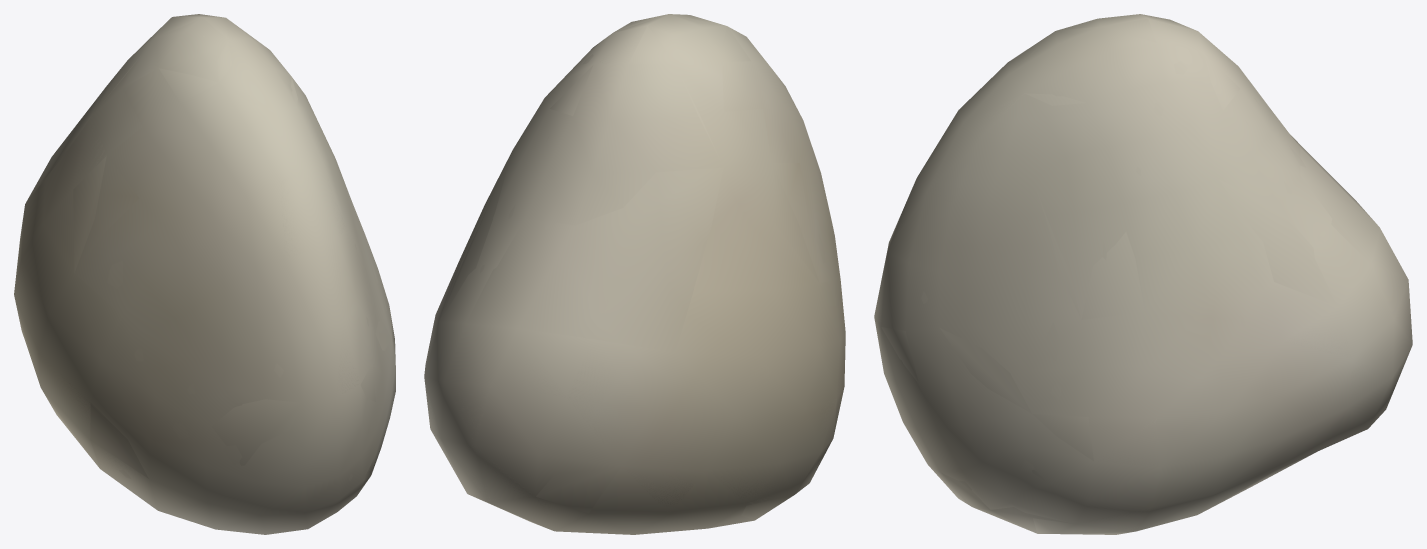
Rendered from L carpale tertium.fbx.
3 renders of one model, left to right at view 1: azimuth 30°, elevation 25°; view 2: azimuth 150°, elevation 25°; view 3: azimuth 270°, elevation 25°, orthographic. The views are drawn at different scales.
Visible parts, largest first — view 1: L carpale tertium, L carpale tertium low, L carpale tertium high; view 2: L carpale tertium, L carpale tertium low, L carpale tertium high; view 3: L carpale tertium, L carpale tertium low, L carpale tertium high.
Part boxes in pixels (box(x1,y1,x2,y2)): L carpale tertium: box(14, 14, 395, 534); L carpale tertium low: box(14, 15, 395, 495); L carpale tertium high: box(33, 35, 393, 480); L carpale tertium: box(424, 14, 845, 534); L carpale tertium low: box(426, 14, 836, 526); L carpale tertium high: box(479, 21, 840, 470); L carpale tertium: box(874, 14, 1412, 534); L carpale tertium low: box(875, 18, 1411, 533); L carpale tertium high: box(900, 19, 1324, 520).
Size of the model in its own units: 0.2231 by 0.3042 by 0.3072.
Materials: 1 (1 with a texture image).
